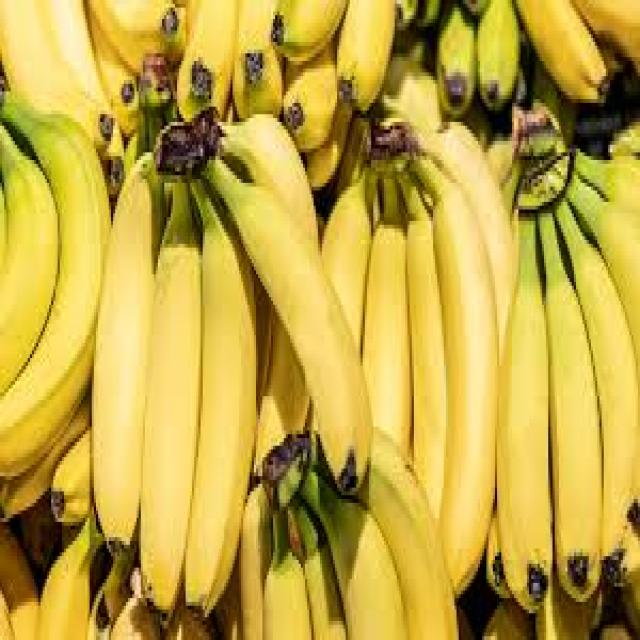Banana: (90, 110, 370, 615), (323, 115, 519, 594), (496, 144, 640, 606), (0, 61, 111, 526), (238, 423, 458, 640)
